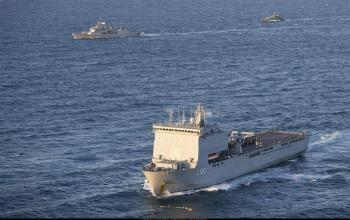warship: (135, 109, 310, 198), (72, 19, 155, 39), (260, 13, 288, 23)
